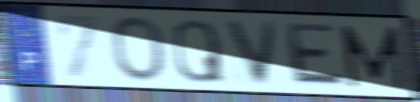7: (53, 12, 99, 80)
E: (284, 20, 348, 90)
M: (338, 23, 409, 91)
O: (107, 14, 168, 84)
Q: (170, 17, 228, 85)
V: (221, 17, 281, 88)
